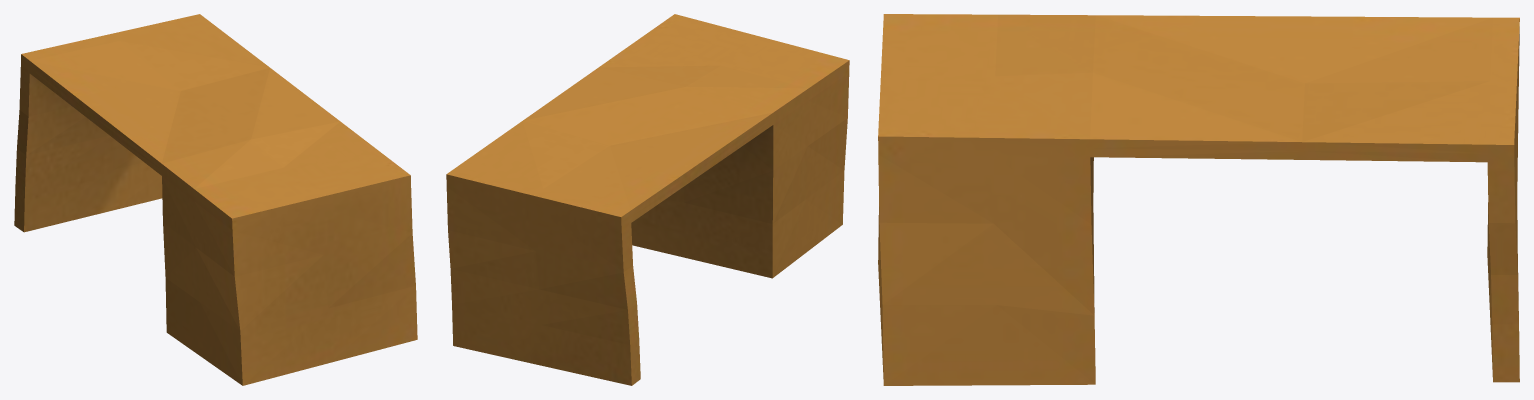
Rendered from Desk 3.fbx.
3 renders of one model, left to right at view 1: azimuth 30°, elevation 25°; view 2: azimuth 150°, elevation 25°; view 3: azimuth 270°, elevation 25°, orthographic. The views are drawn at different scales.
Parts seen in each view (by area): view 1: Desk 3; view 2: Desk 3; view 3: Desk 3.
Part boxes in pixels (bbox=[...]): Desk 3: bbox=[14, 14, 417, 385]; Desk 3: bbox=[446, 14, 849, 385]; Desk 3: bbox=[878, 14, 1519, 385].
Size of the model in its own units: 152 by 134 by 314.
